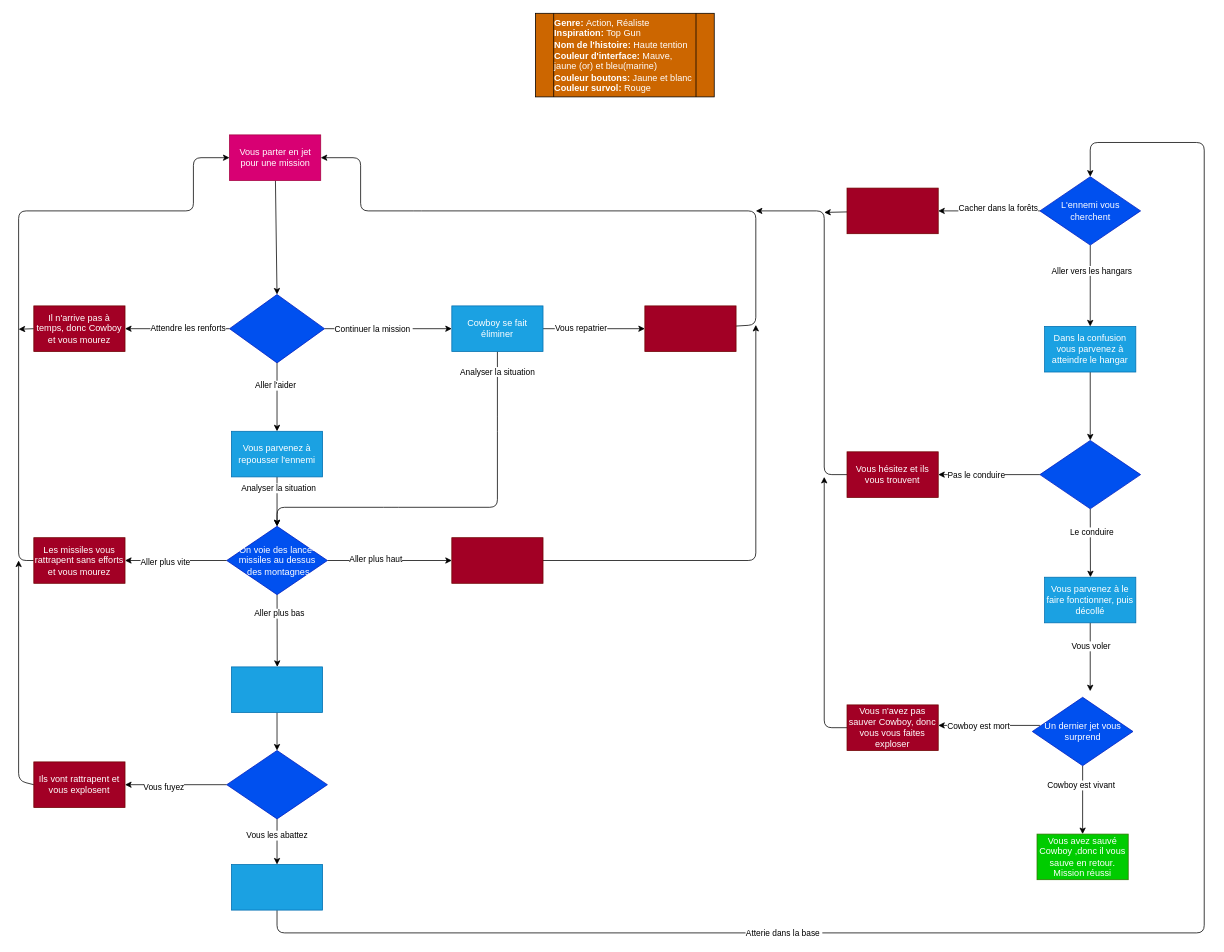
The diagram is 1224 pixels wide and 952 high, and some of its shapes have lost their labels. The shapes that lost their labels are listed below. From the top down, each one's centre as x and y in pixels, then its label:
At [892,210]: "Les chiens vous trouvent avant les renforts".
At [277,328]: "Cowboy est en danger".
At [690,328]: "Vous tombez face à face a deux jets ennemis et mourez".
At [1090,474]: "Vous trouver un vieux jet".
At [497,560]: "Les missiles vous détectent toujours et vous mourez".
At [277,689]: "Ils ne vous détectent pas et vous parvenez à détruire leur laboratoire".
At [276,784]: "Des chasseurs partent à vos trousses".
At [277,887]: "Vous parvenez à en descendre deux ,mais un vous heurtent".
